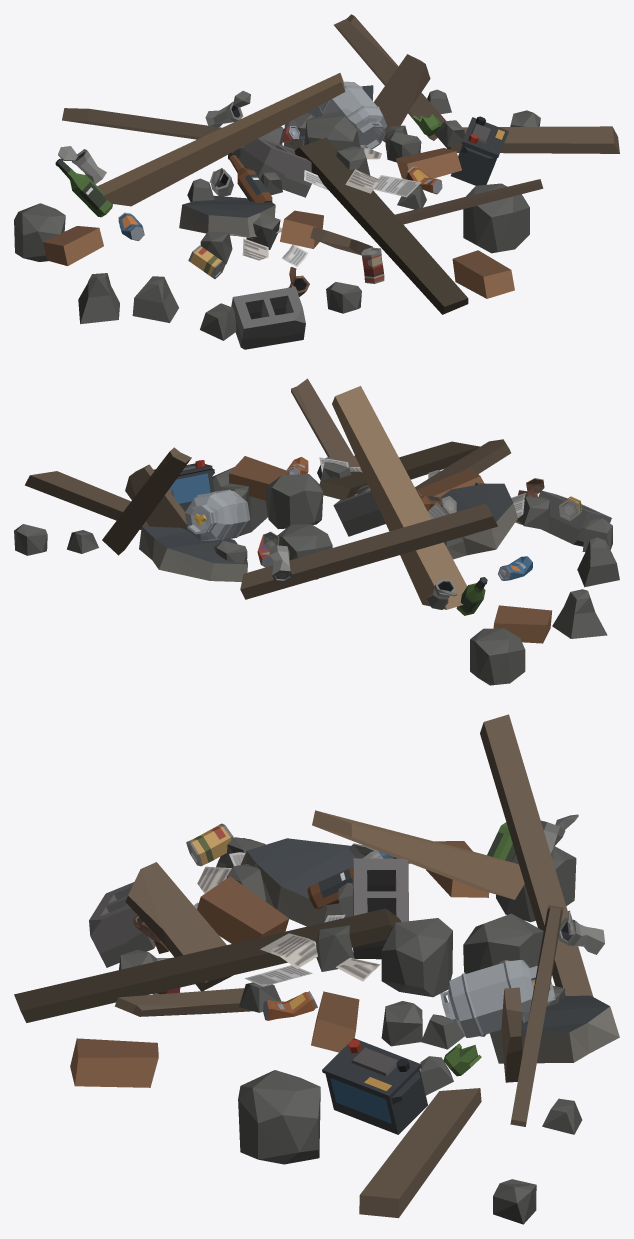
The model's file is SM_Prop_Trash_08.obj.
3 views of the same model, one above another, from view 1: azimuth 30°, elevation 25°; view 2: azimuth 150°, elevation 25°; view 3: azimuth 270°, elevation 25° (orthographic). The views are drawn at different scales.
Parts seen in each view (by area): view 1: SM_Prop_Trash_08_0, SM_Prop_Trash_08_1; view 2: SM_Prop_Trash_08_0, SM_Prop_Trash_08_1; view 3: SM_Prop_Trash_08_0, SM_Prop_Trash_08_1.
Part boxes in pixels (<box>): SM_Prop_Trash_08_0: <box>14,14,619,349</box>; SM_Prop_Trash_08_1: <box>43,85,514,298</box>; SM_Prop_Trash_08_0: <box>14,378,619,685</box>; SM_Prop_Trash_08_1: <box>139,455,551,643</box>; SM_Prop_Trash_08_0: <box>14,714,604,1224</box>; SM_Prop_Trash_08_1: <box>70,838,619,1087</box>.
Size of the model in its own units: 4.32 by 1.41 by 2.99.
2 materials, 2 textured.
